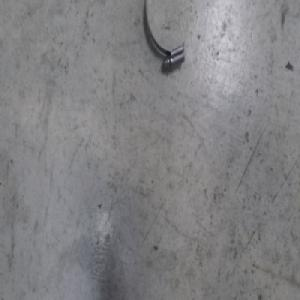AdjustableClamp: (144, 0, 191, 72)
